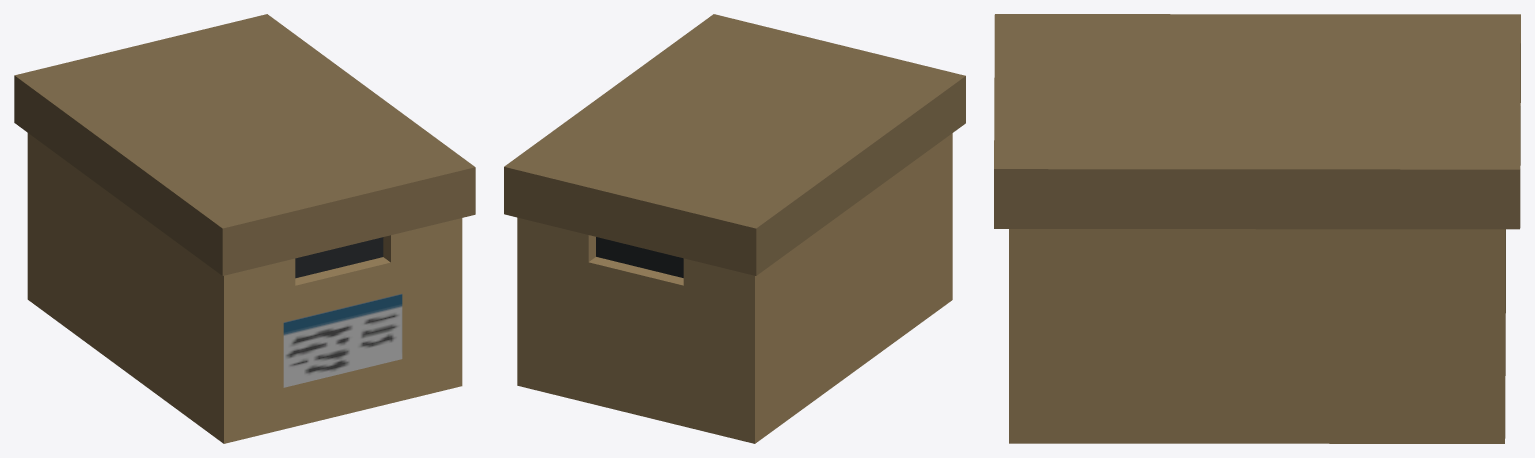
File: SM_Prop_CardboardBox_01.obj
3 views of the same model, side by side, from view 1: azimuth 30°, elevation 25°; view 2: azimuth 150°, elevation 25°; view 3: azimuth 270°, elevation 25° (orthographic). The views are drawn at different scales.
Parts seen in each view (by area): view 1: SM_Prop_CardboardBox_01_M_PolygonOffice_01_A; view 2: SM_Prop_CardboardBox_01_M_PolygonOffice_01_A; view 3: SM_Prop_CardboardBox_01_M_PolygonOffice_01_A.
Part boxes in pixels (box(x1,y1,x2,y2)): SM_Prop_CardboardBox_01_M_PolygonOffice_01_A: box(14, 14, 475, 443); SM_Prop_CardboardBox_01_M_PolygonOffice_01_A: box(504, 14, 965, 443); SM_Prop_CardboardBox_01_M_PolygonOffice_01_A: box(994, 14, 1520, 443).
Bounding box in the file's own units: 0.3296 × 0.2754 × 0.4717.
1 material, 1 textured.
